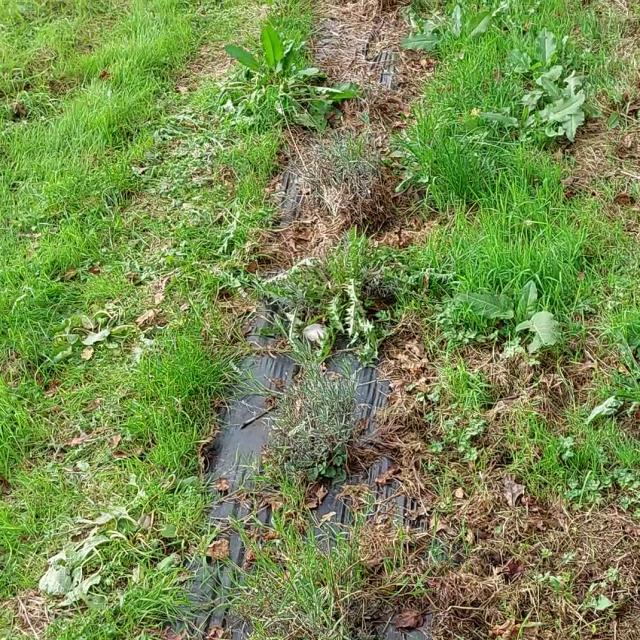organic waste: (41, 504, 215, 605), (205, 21, 340, 137), (460, 262, 578, 356), (70, 275, 154, 379), (398, 0, 505, 74), (440, 96, 564, 158), (524, 72, 594, 136)
